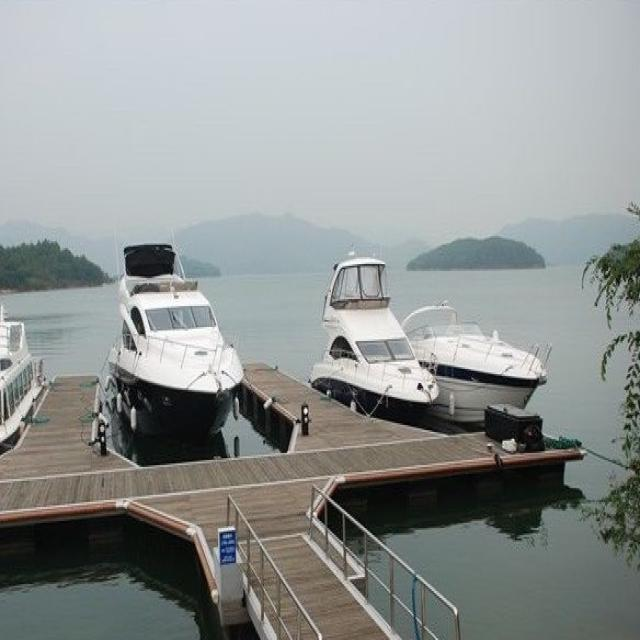houseboat: (101, 229, 242, 442), (314, 250, 436, 418), (402, 288, 548, 422), (0, 300, 37, 463)
